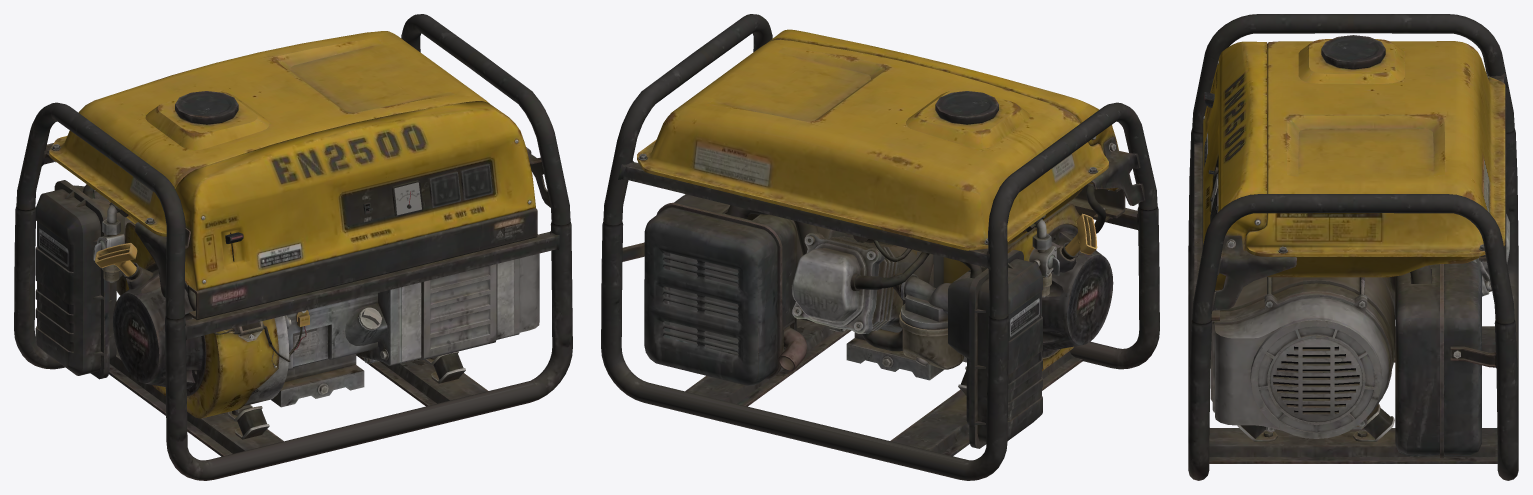
File: portable_generator.glb
3 views of the same model, side by side, from view 1: azimuth 30°, elevation 25°; view 2: azimuth 150°, elevation 25°; view 3: azimuth 270°, elevation 25° (orthographic).
Parts seen in each view (by area): view 1: portable_generator; view 2: portable_generator; view 3: portable_generator.
Part boxes in pixels (left/top/right/bottom): portable_generator: left=14, top=14, right=572, bottom=480; portable_generator: left=601, top=14, right=1159, bottom=480; portable_generator: left=1188, top=14, right=1518, bottom=480.
Size of the model in its own units: 0.8183 by 0.577 by 0.564.
2 materials, 2 textured.
